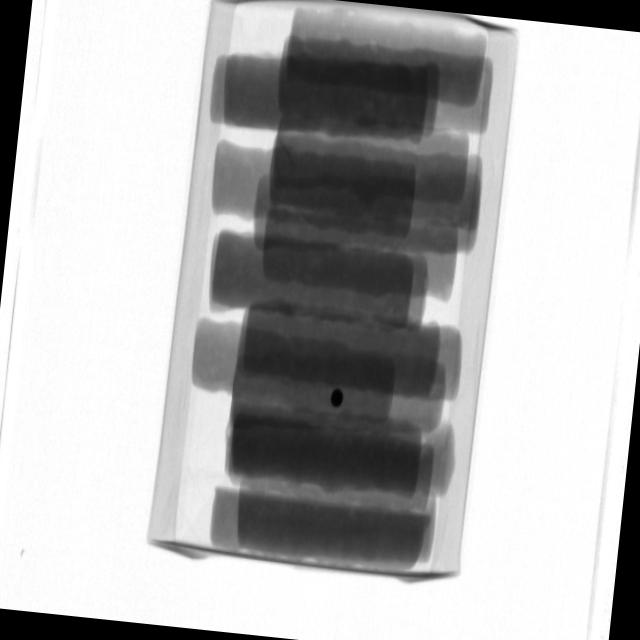ym: (330, 387, 345, 408)
